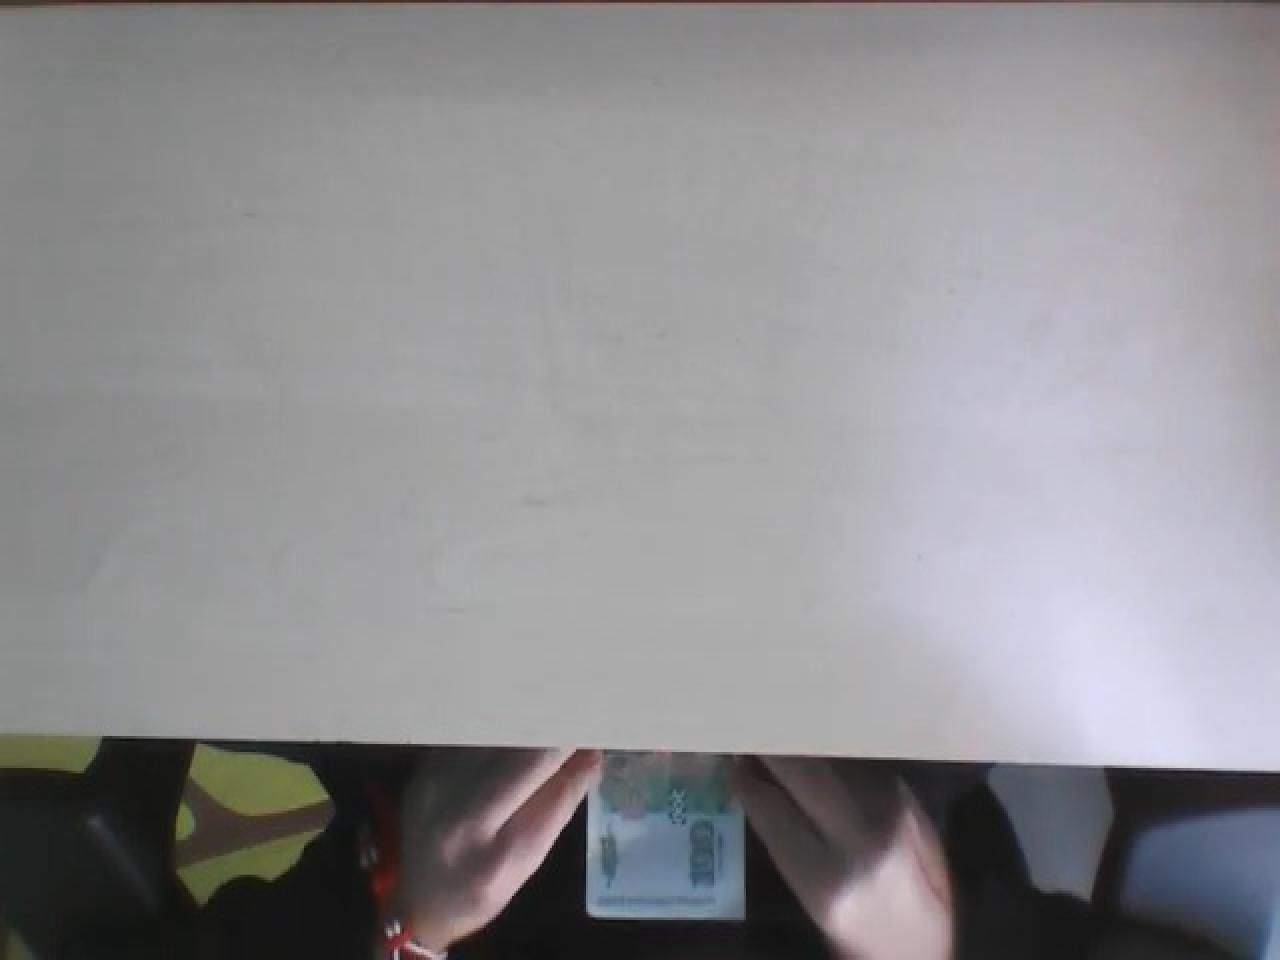100leva: (584, 751, 750, 926)
